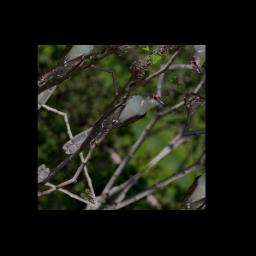Cuckoo: (60, 74, 169, 177)
